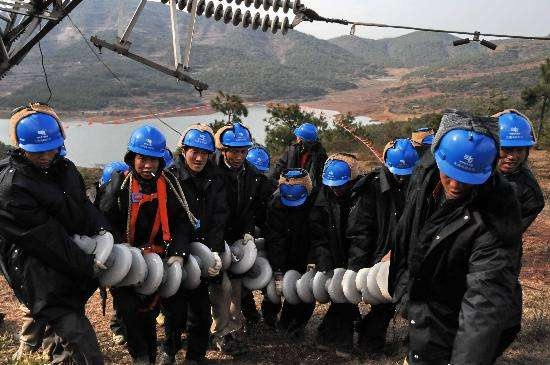blue: (434, 114, 494, 202), (11, 105, 64, 167), (490, 111, 534, 172), (127, 125, 164, 181), (380, 136, 418, 186), (178, 124, 213, 172), (320, 151, 355, 198), (278, 167, 310, 214), (219, 121, 250, 167), (292, 121, 317, 148)
